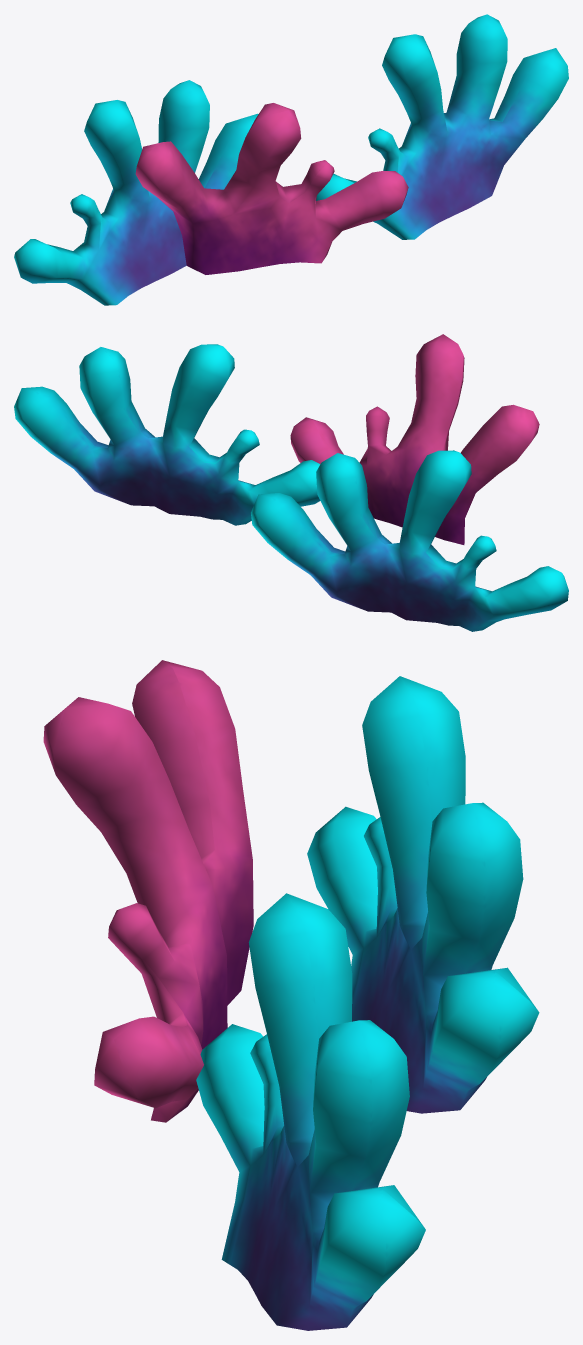
File: Cartoon Seaweed_13-2-38.fbx
The picture shows the model from 3 angles, top to bottom: view 1: azimuth 30°, elevation 25°; view 2: azimuth 150°, elevation 25°; view 3: azimuth 270°, elevation 25°; orthographic projection. The views are drawn at different scales.
Parts seen in each view (by area): view 1: Cartoon Seaweed_13.2.38; view 2: Cartoon Seaweed_13.2.38; view 3: Cartoon Seaweed_13.2.38.
Part boxes in pixels (x1,y1,x2,y2): Cartoon Seaweed_13.2.38: (14,14,568,305); Cartoon Seaweed_13.2.38: (14,334,568,631); Cartoon Seaweed_13.2.38: (43,660,539,1330).
Bounding box in the file's own units: 16.12 × 6.17 × 6.36.
Materials: 1 (1 with a texture image).
